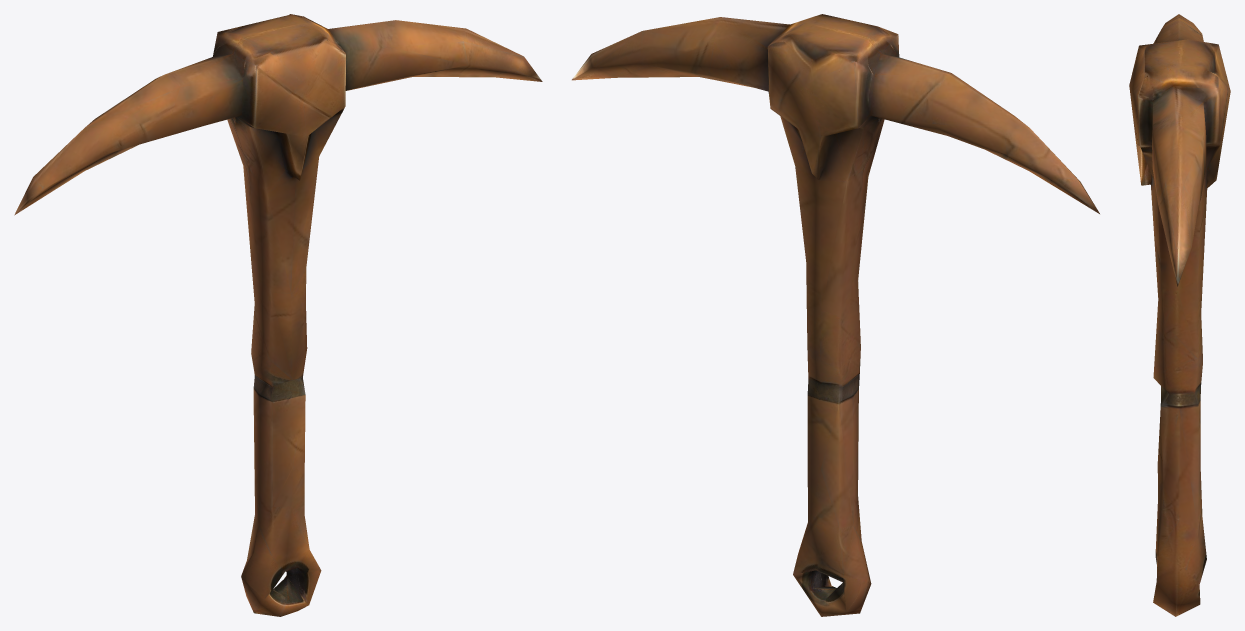
File: 1571_pick.glb
3 renders of one model, left to right at view 1: azimuth 30°, elevation 25°; view 2: azimuth 150°, elevation 25°; view 3: azimuth 270°, elevation 25°, orthographic. The views are drawn at different scales.
Visible parts, largest first — view 1: Model; view 2: Model; view 3: Model.
Part boxes in pixels (left/top/right/bottom): Model: left=14, top=14, right=542, bottom=616; Model: left=572, top=14, right=1099, bottom=616; Model: left=1129, top=14, right=1230, bottom=616.
Bounding box in the file's own units: 0.9457 × 1 × 0.1661.
Materials: 1 (1 with a texture image).
